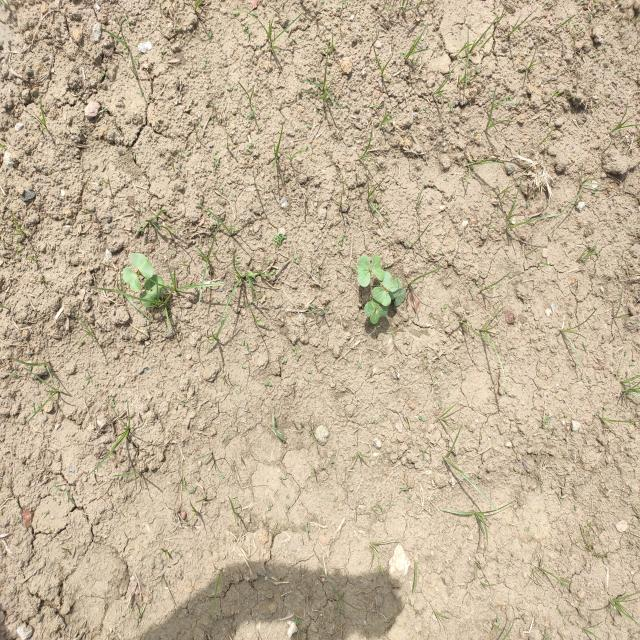seedling_s2: (140, 275, 166, 307), (131, 253, 154, 279), (123, 267, 142, 292), (357, 255, 371, 287), (379, 271, 398, 292), (372, 286, 391, 306), (371, 254, 384, 281), (388, 278, 402, 300), (370, 306, 387, 324), (364, 298, 380, 317), (394, 288, 406, 306)
